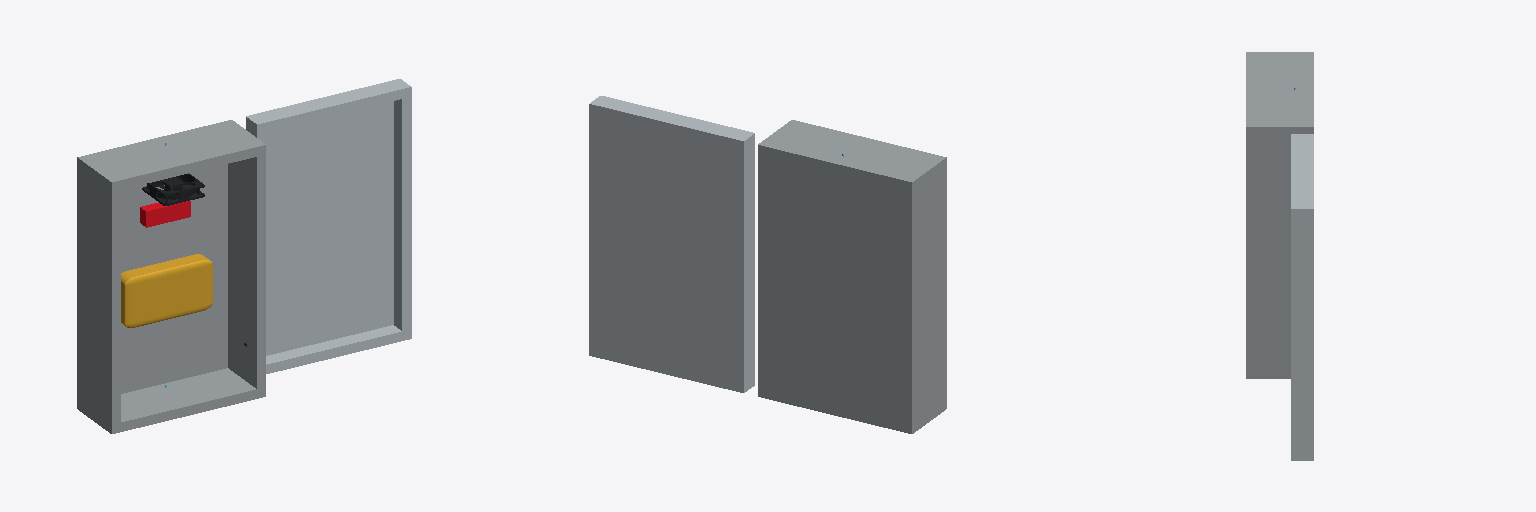
The model's file is incubator_plant.obj.
The picture shows the model from 3 angles: view 1: azimuth 30°, elevation 25°; view 2: azimuth 150°, elevation 25°; view 3: azimuth 270°, elevation 25°; orthographic projection.
Visible parts, largest first — view 1: obj_0; view 2: obj_0; view 3: obj_0.
Boxes of the visible parts, x1=… form: obj_0: x1=77, y1=79, x2=411, y2=433; obj_0: x1=589, y1=96, x2=946, y2=433; obj_0: x1=1246, y1=52, x2=1313, y2=460.
Size of the model in its own units: 731 by 552 by 135.